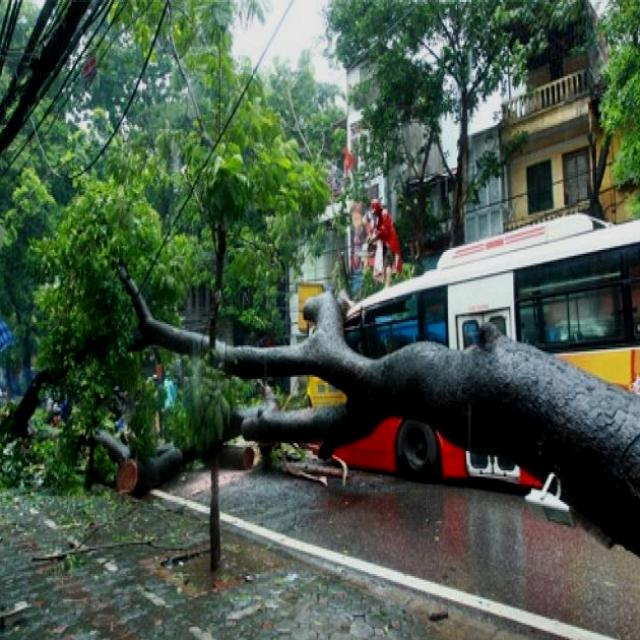fallen_object: (86, 213, 640, 563)
